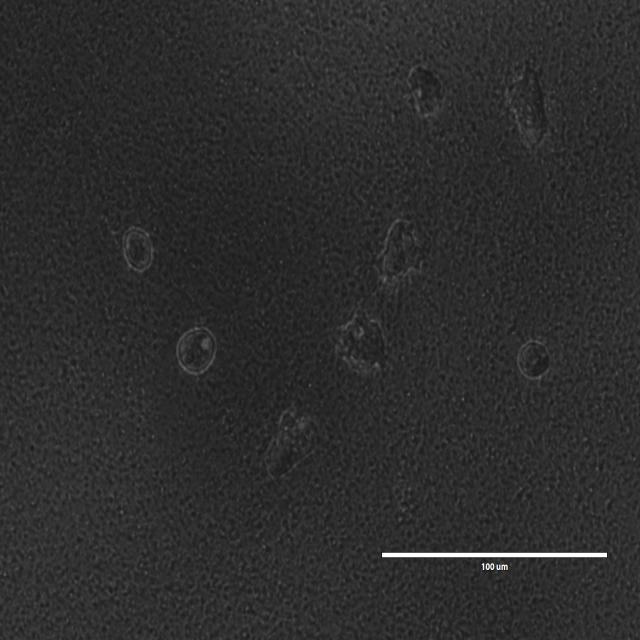Amoeba: (503, 64, 548, 150), (334, 307, 388, 374), (264, 411, 319, 475), (376, 218, 426, 288), (407, 63, 447, 122), (177, 329, 218, 377), (124, 232, 157, 274), (520, 337, 550, 381)
